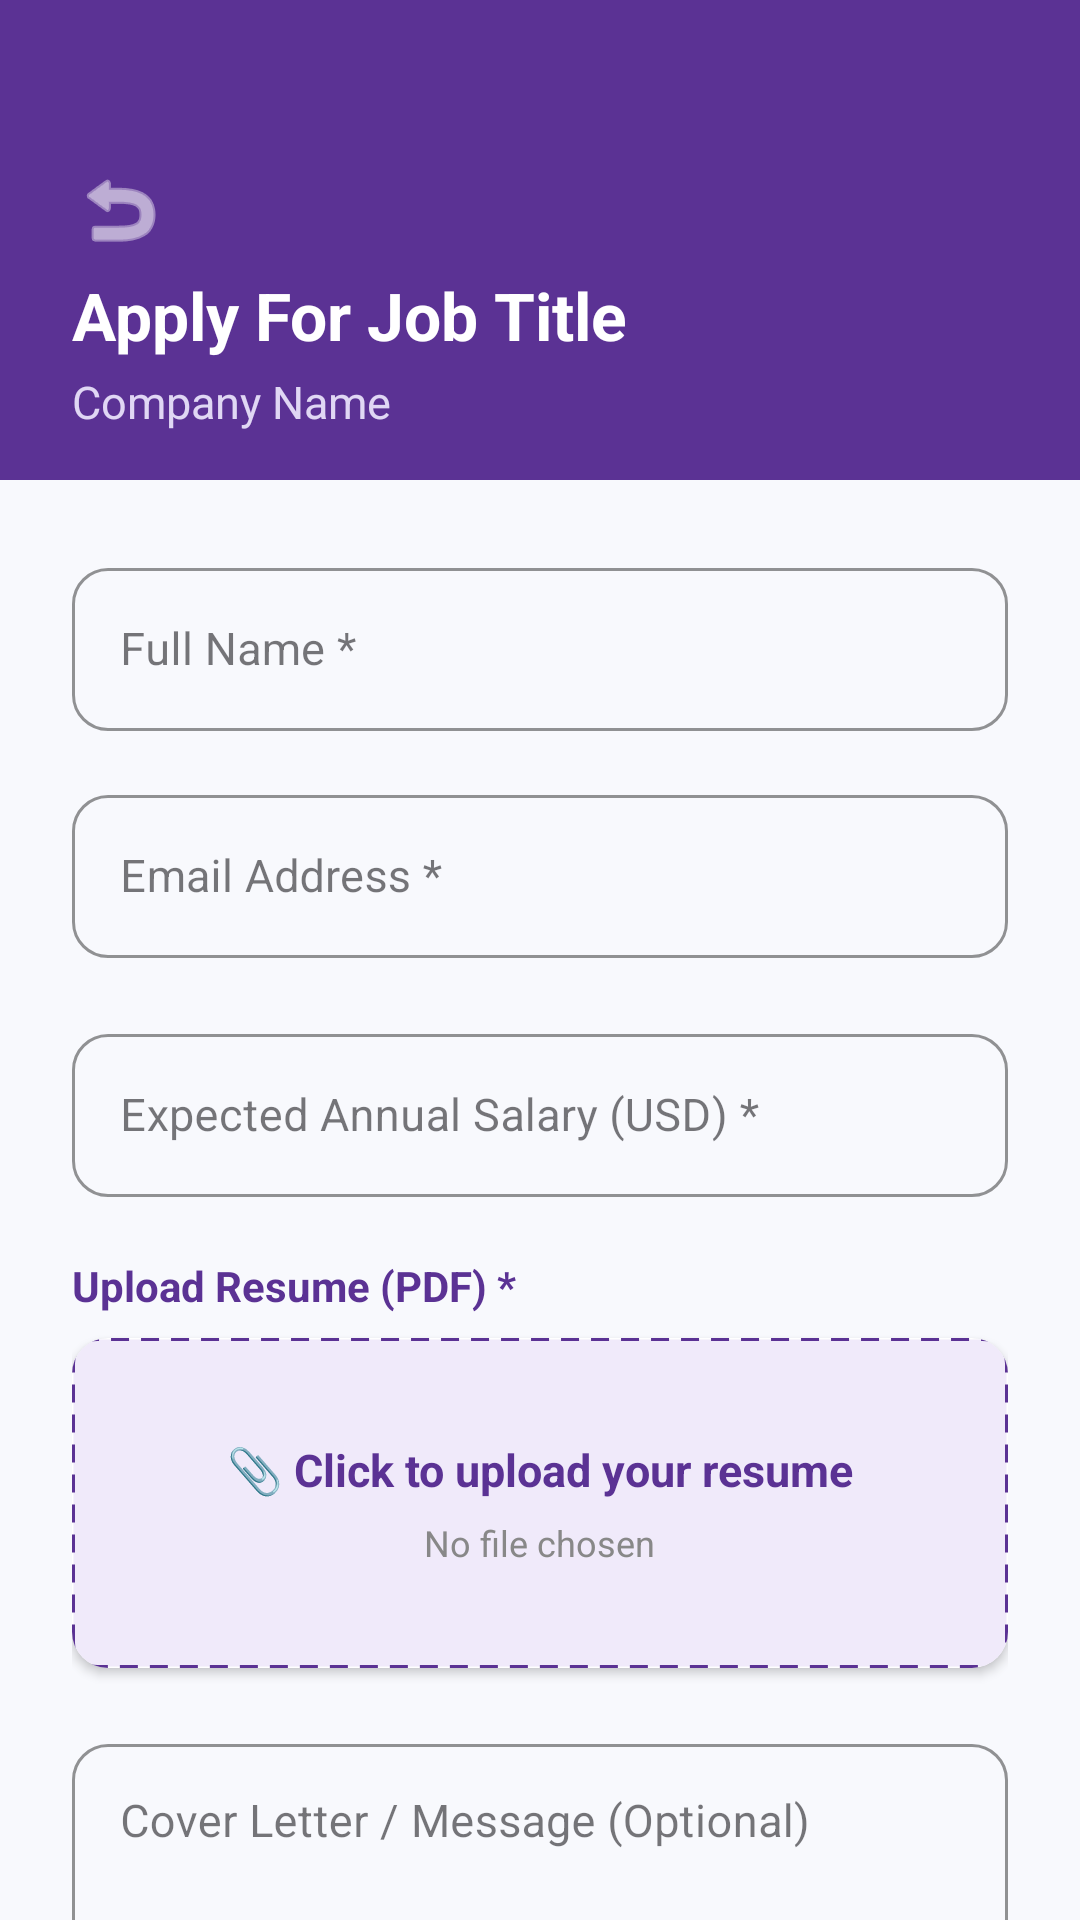

Where icons sit on this 1080×1920 app screen, as (x1, y1, x2, y2):
Back: (87, 179, 156, 242)
